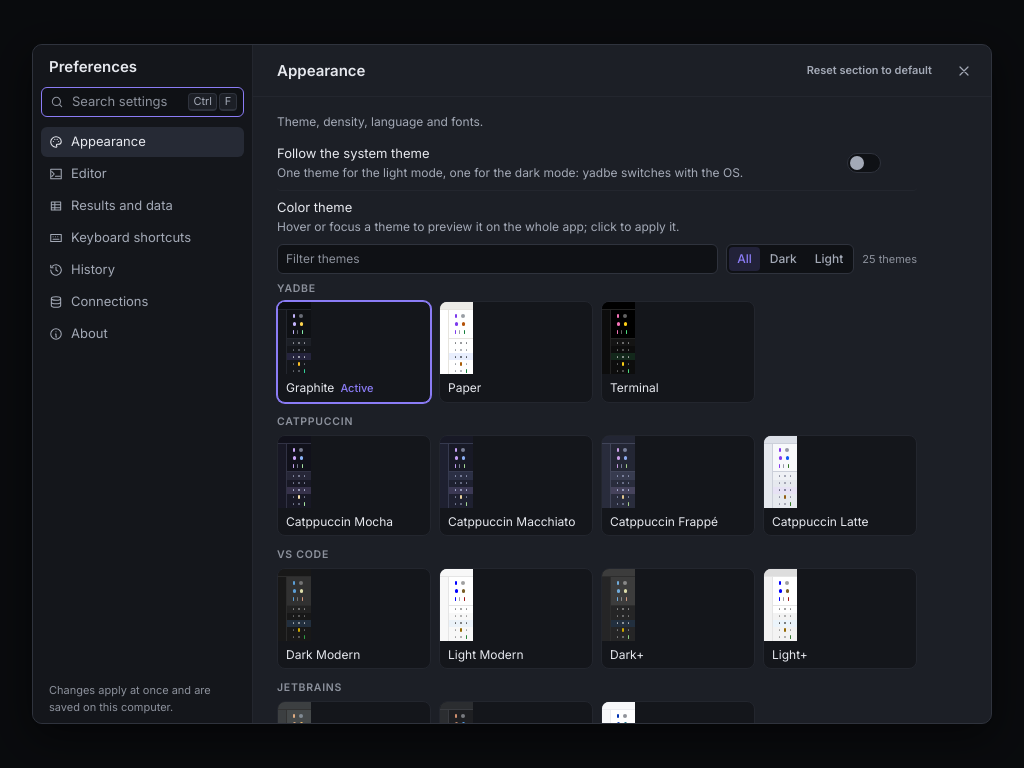
Test case: the preferences screen › searches every section and shows the matches under their section
The image size is (1024, 768).
Type "wrap" into the search field named "Search the settings" at coordinates (126, 101), box 70,92 -> 182,111
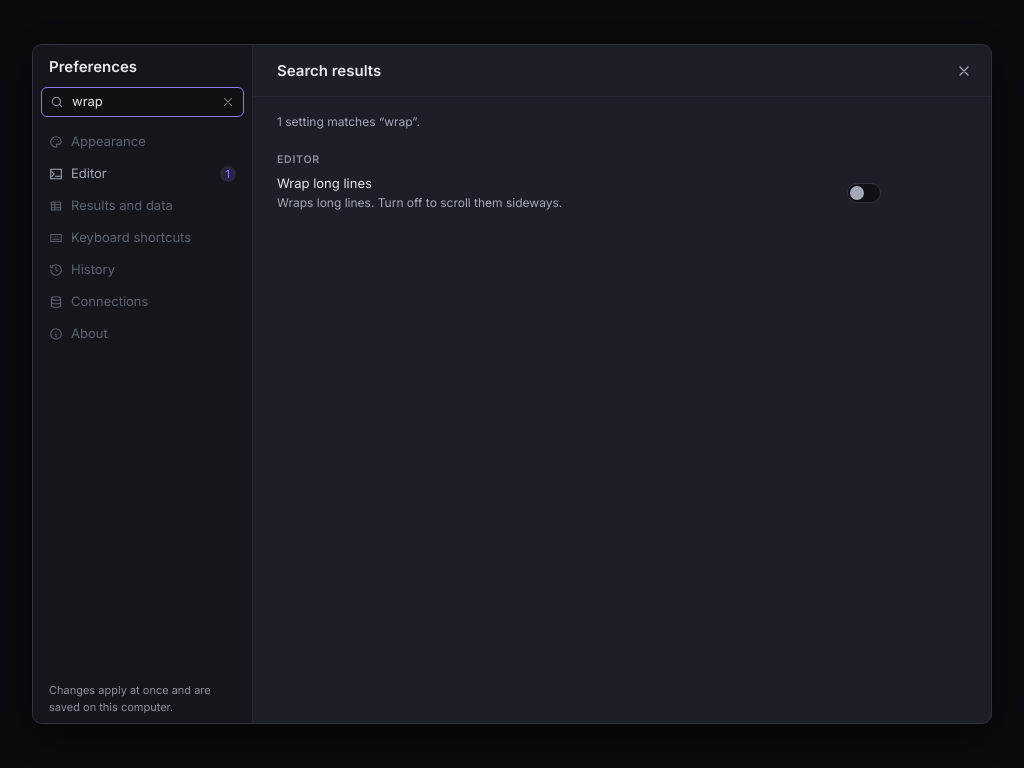
Expected: the heading "Search results" is shown, 277,61 -> 381,80
Expected: the switch named "Wrap long lines" is shown, 847,183 -> 881,203
Clear the search field at coordinates (142, 101), box 70,92 -> 213,111
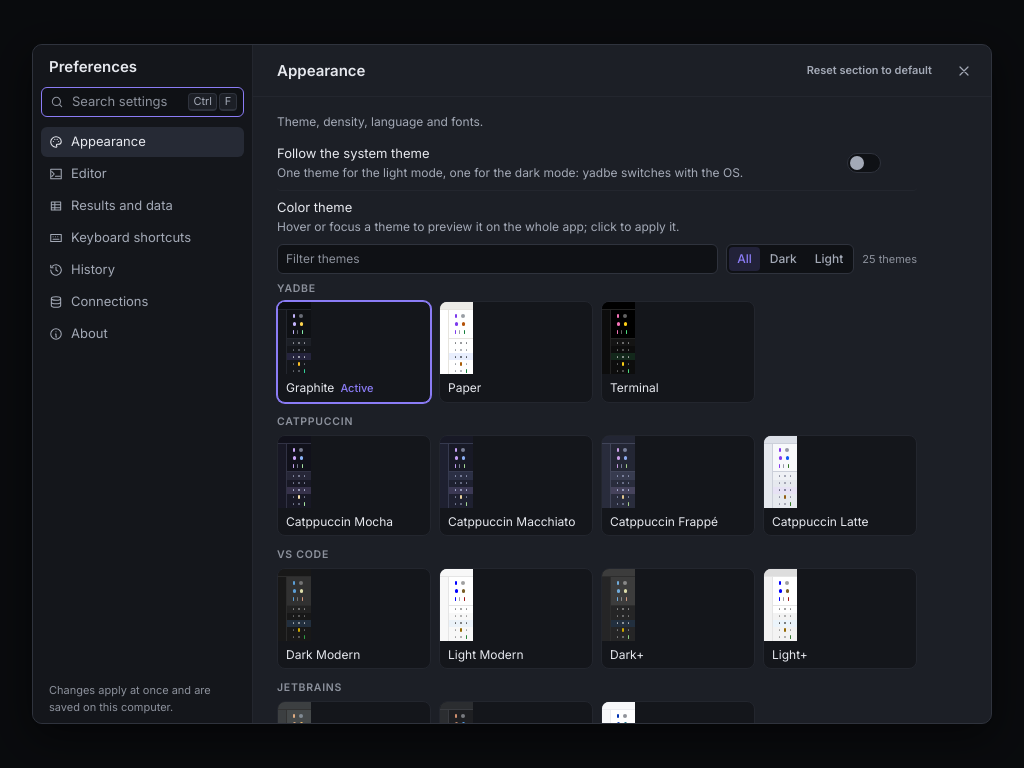
Type "zzzz" into the search field at coordinates (126, 101), box 70,92 -> 182,111
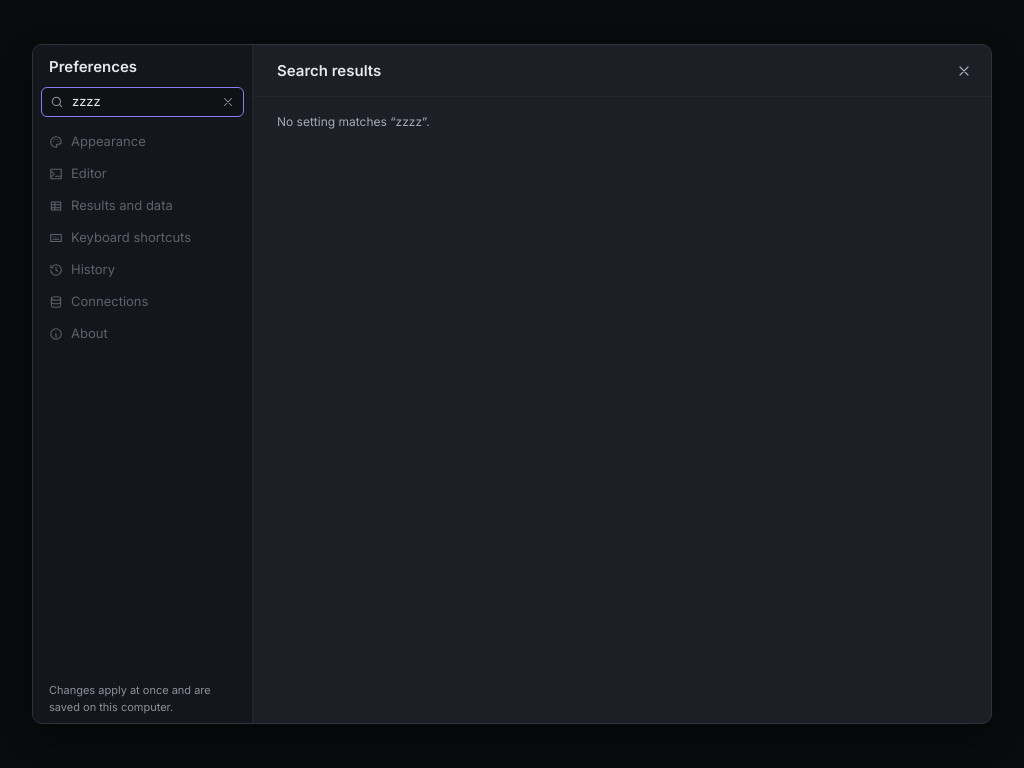
Expected: the text "No setting matches “zzzz”." is shown, 277,114 -> 430,129
